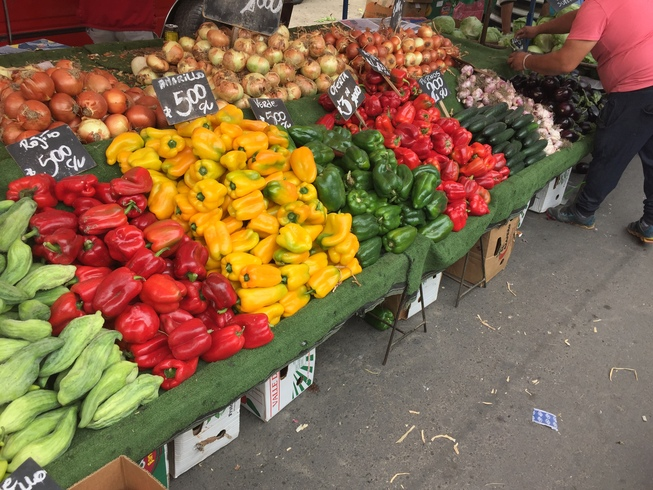precio: (3, 114, 97, 199), (149, 65, 224, 127), (315, 69, 369, 127), (247, 90, 299, 135), (356, 44, 398, 81), (415, 60, 448, 107)
